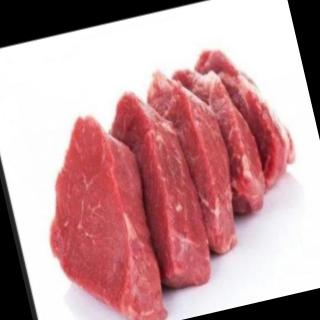Daging Sapi: (20, 35, 320, 320), (26, 107, 172, 320), (105, 81, 218, 296), (144, 59, 246, 263), (190, 37, 301, 202), (178, 51, 274, 219)
